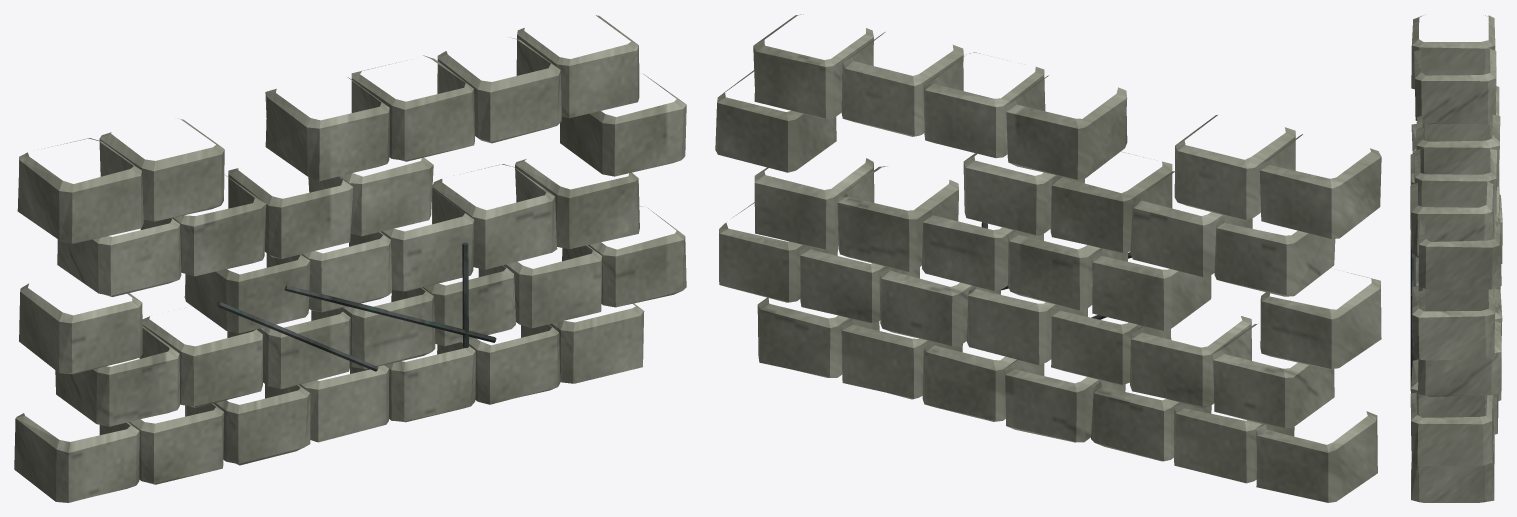
The model's file is 0349_wall_section_24.glb.
The picture shows the model from 3 angles, left to right: view 1: azimuth 30°, elevation 25°; view 2: azimuth 150°, elevation 25°; view 3: azimuth 270°, elevation 25°; orthographic projection. The views are drawn at different scales.
Visible parts, largest first — view 1: stone_light, iron; view 2: stone_light; view 3: stone_light, iron.
Boxes of the visible parts, x1,y1,x2,y2 form: stone_light: (14, 15, 686, 502); iron: (216, 242, 496, 371); stone_light: (715, 14, 1381, 502); stone_light: (1410, 15, 1502, 502); iron: (1410, 235, 1415, 390).
Bounding box in the file's own units: 3.8 × 1.88 × 0.5982.
Materials: 2 (2 with a texture image).
